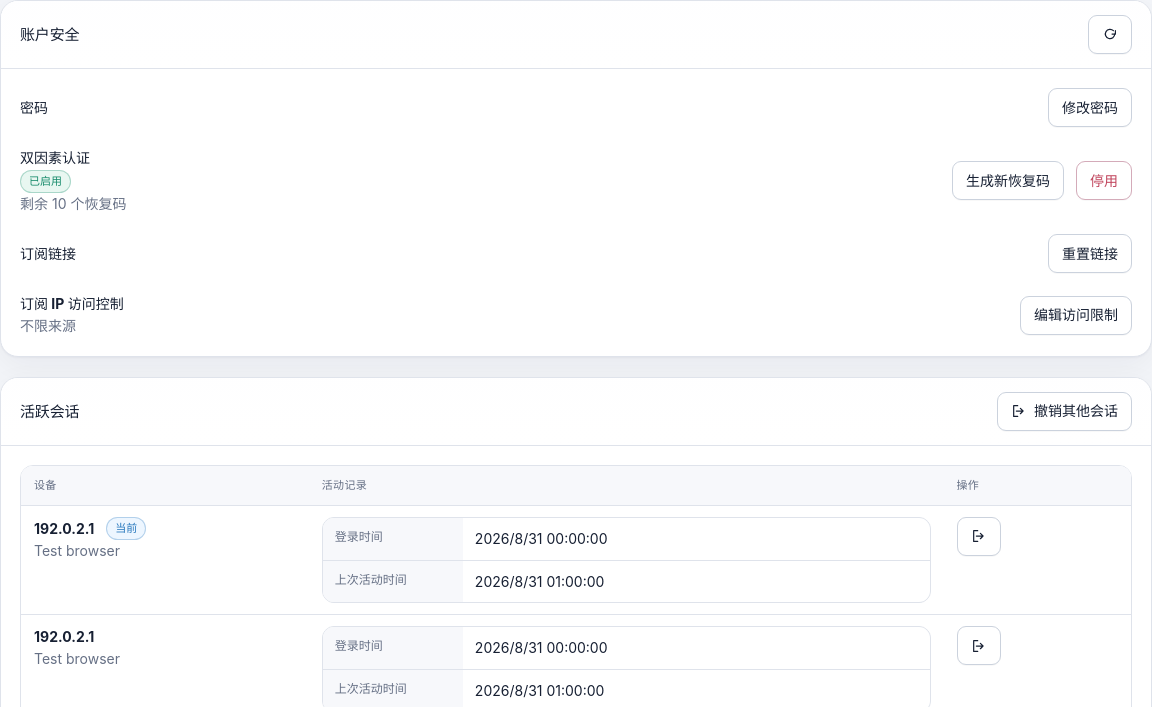
React subscriber security › requires a fresh password and enrolled factor to rotate subscription links
Click the button "重置链接" at {"x": 1090, "y": 254}, box [1048, 234, 1132, 273]
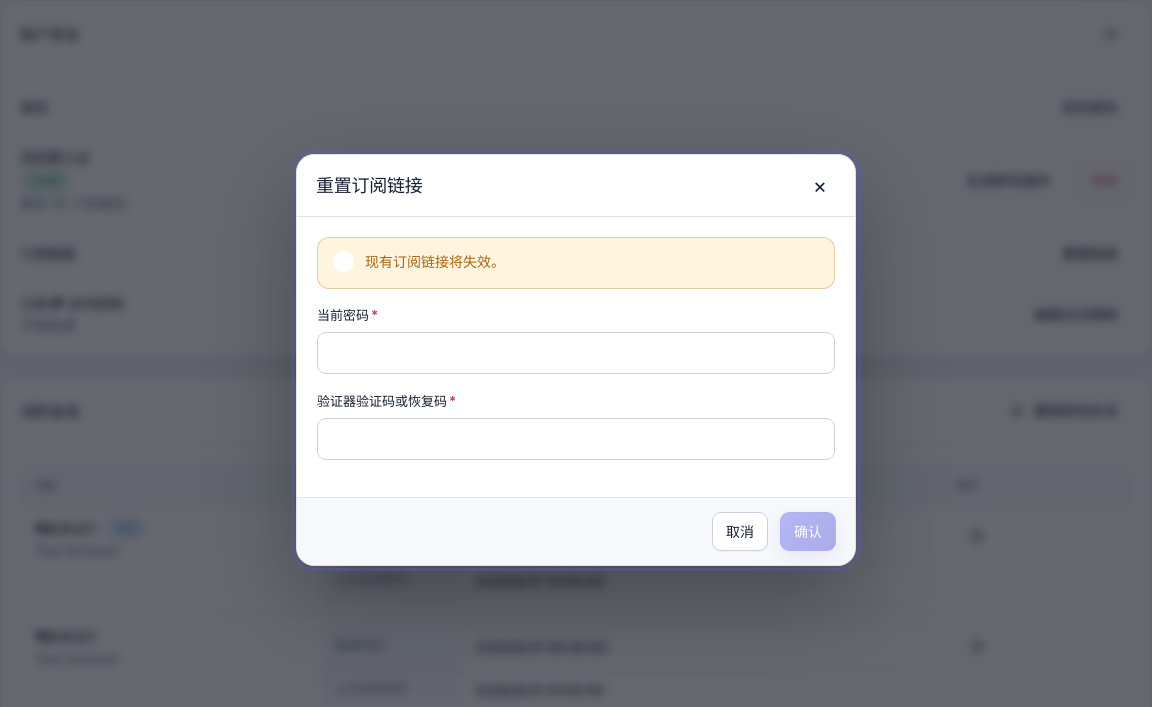
Type "private-password" into the password field labelled "当前密码" at {"x": 576, "y": 353}, box [317, 332, 835, 374]
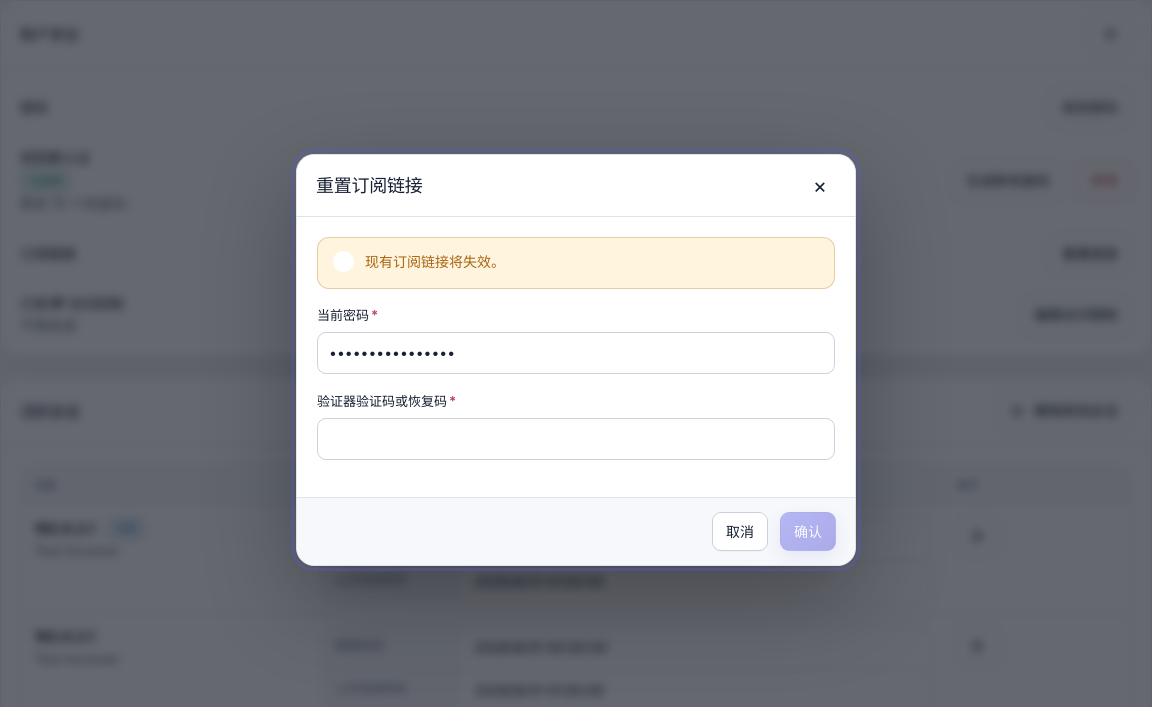
Now the button "确认" is disabled, box [780, 512, 836, 551]
Type "one-time-proof" into the field labelled "验证器验证码或恢复码" at {"x": 576, "y": 439}, box [317, 418, 835, 460]
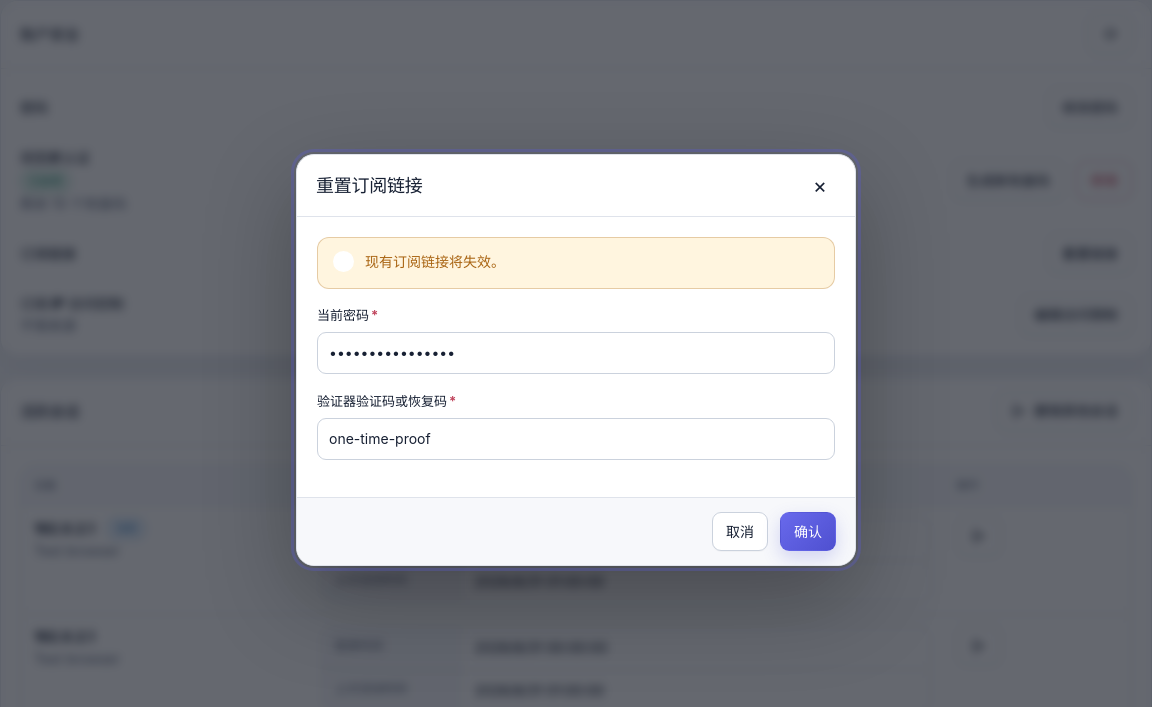
Click the button "确认" at {"x": 808, "y": 532}, box [780, 512, 836, 551]
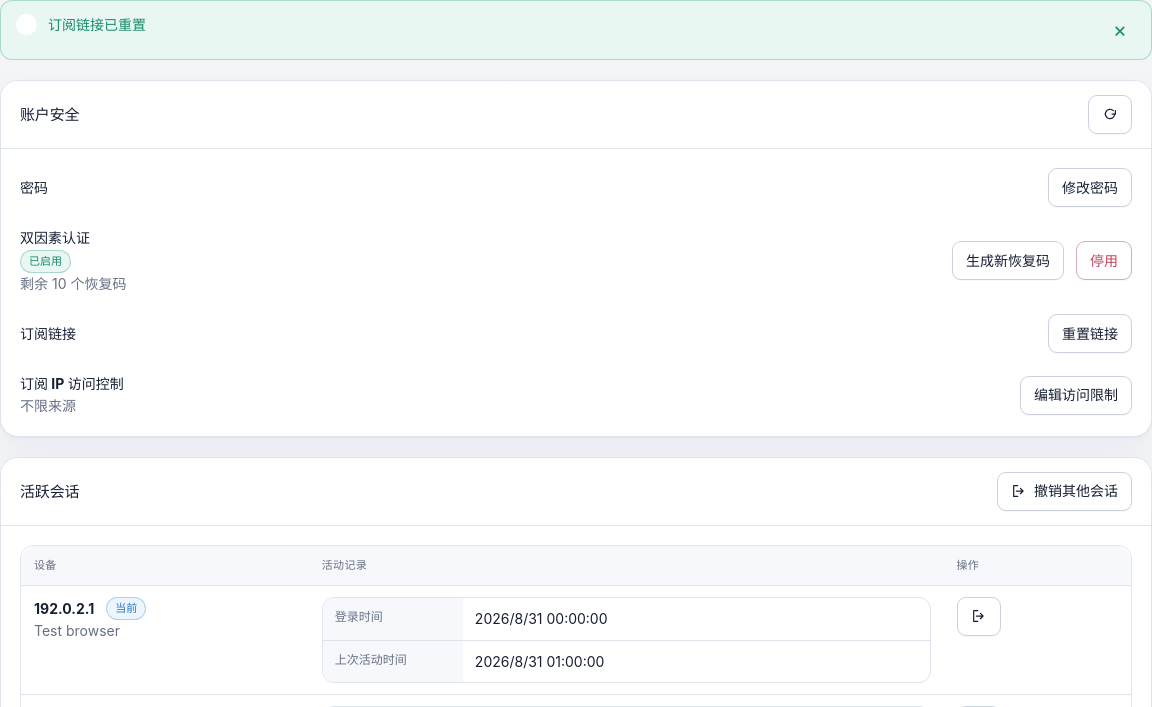
Now the label labelled "当前密码" is gone
Now the text "订阅链接已重置" is shown, box [48, 16, 146, 33]
